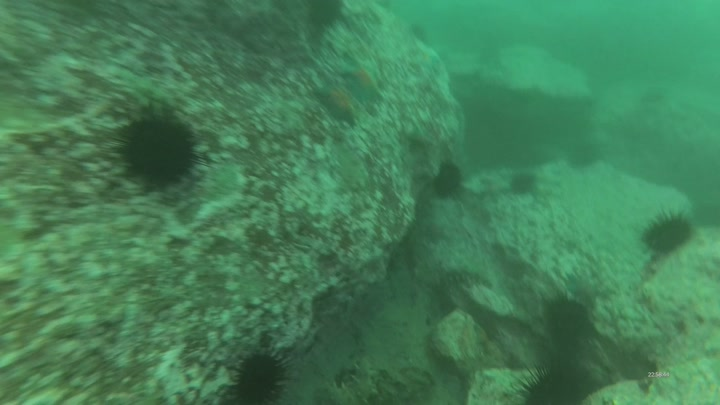echinus: (111, 102, 217, 194), (511, 359, 602, 405), (223, 350, 297, 405), (540, 291, 599, 354), (642, 205, 695, 257), (303, 1, 356, 33), (431, 159, 465, 197), (509, 173, 539, 197)
holothurian: (330, 356, 380, 405), (443, 267, 496, 291)
starfish: (339, 64, 385, 116), (314, 81, 359, 128)
